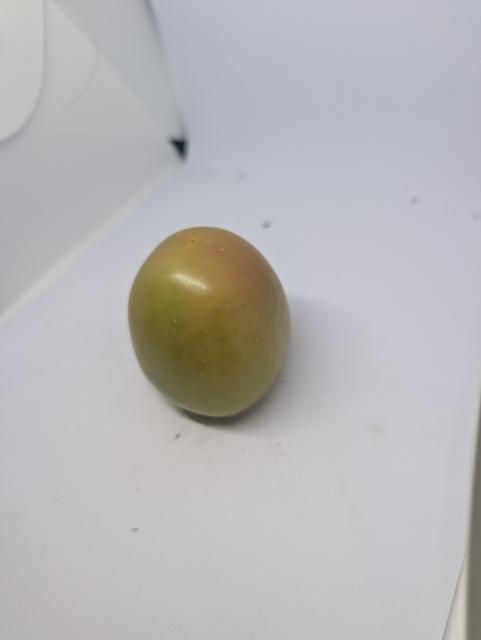breaker: (126, 223, 295, 421)
